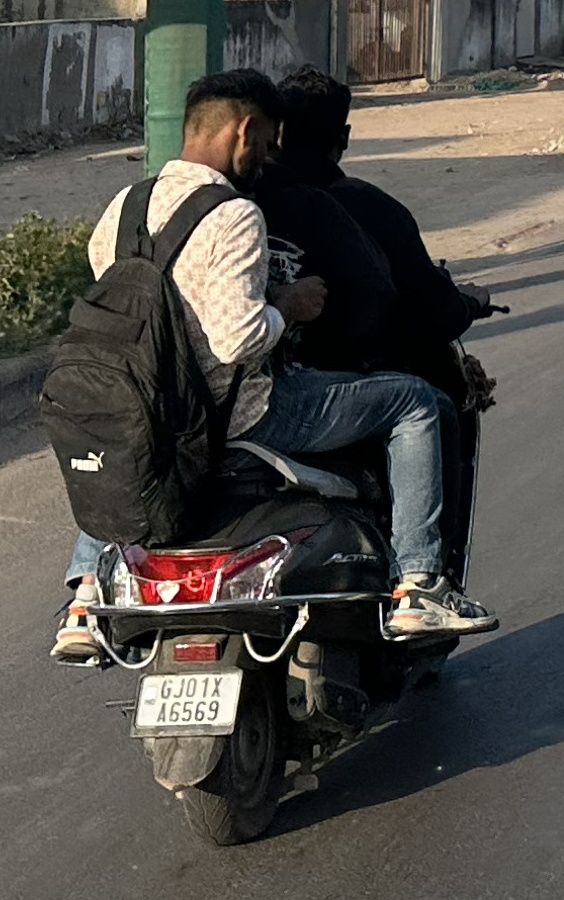BikeWithRider: (26, 50, 520, 859)
NoHelmet: (164, 59, 294, 196), (259, 56, 366, 183)
